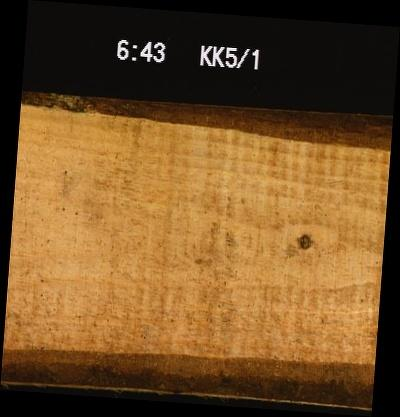dry_knot: (298, 231, 310, 249)
wave: (1, 348, 373, 396), (20, 103, 391, 137)
